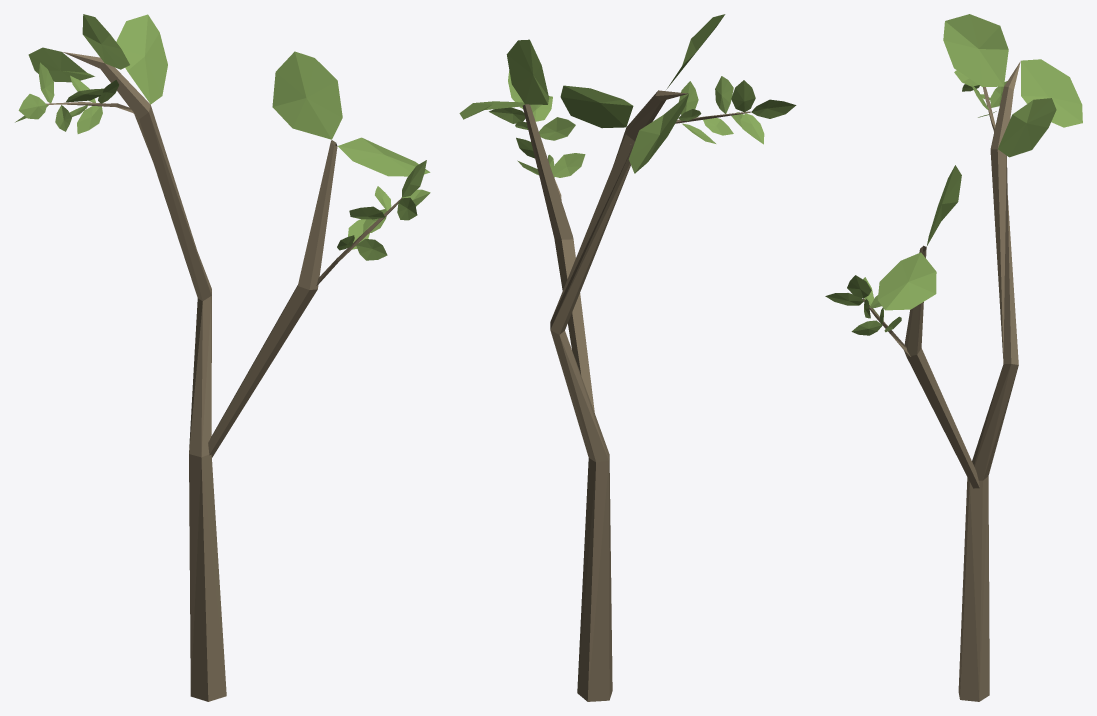
The model's file is Cherry_1_1.fbx.
The picture shows the model from 3 angles, left to right: view 1: azimuth 30°, elevation 25°; view 2: azimuth 150°, elevation 25°; view 3: azimuth 270°, elevation 25°; orthographic projection. The views are drawn at different scales.
Visible parts, largest first — view 1: Cherry_1_1; view 2: Cherry_1_1; view 3: Cherry_1_1.
Boxes of the visible parts, left/top/right/bottom form: Cherry_1_1: left=15, top=14, right=430, bottom=701; Cherry_1_1: left=459, top=14, right=796, bottom=701; Cherry_1_1: left=825, top=14, right=1082, bottom=701.
Size of the model in its own units: 91.17 by 167 by 61.85.
